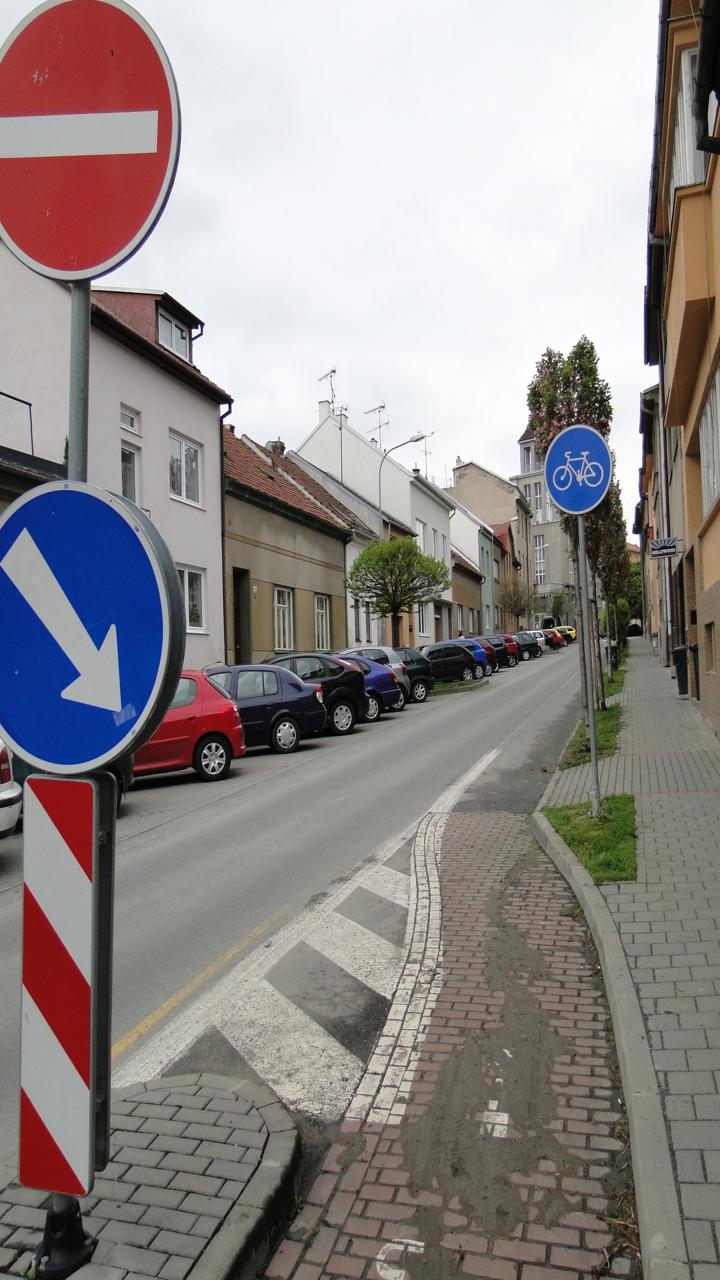Traffic sign: (1, 465, 182, 775), (1, 8, 189, 289), (536, 407, 636, 533)
vehicle: (257, 650, 405, 743), (141, 681, 256, 785), (226, 663, 331, 752), (349, 636, 443, 715)
